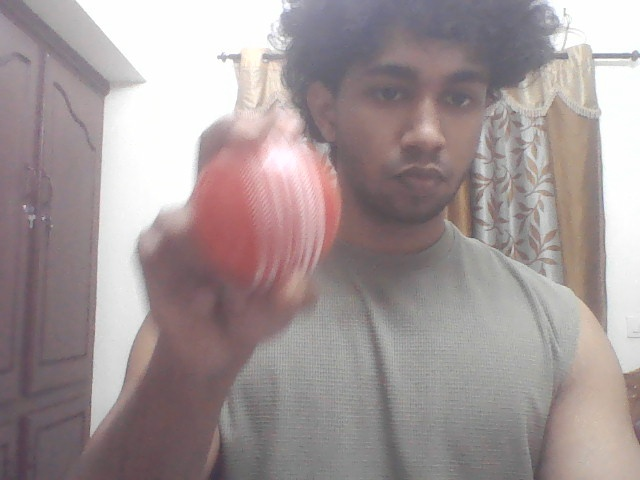cricket_ball: (189, 130, 345, 300)
